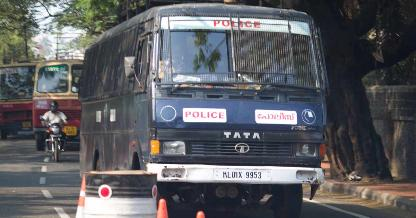priority: (80, 2, 330, 200)
